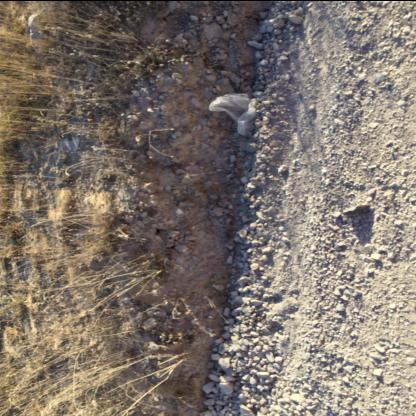plastik: (207, 90, 256, 134)
